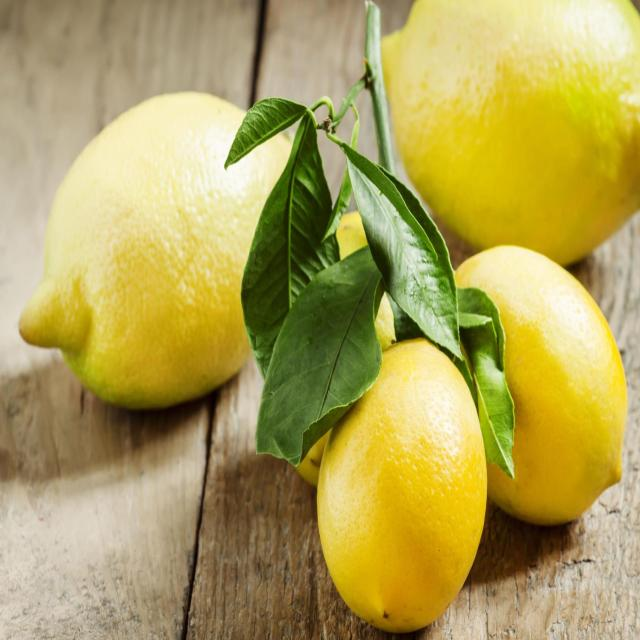lemon: (311, 334, 491, 635)
